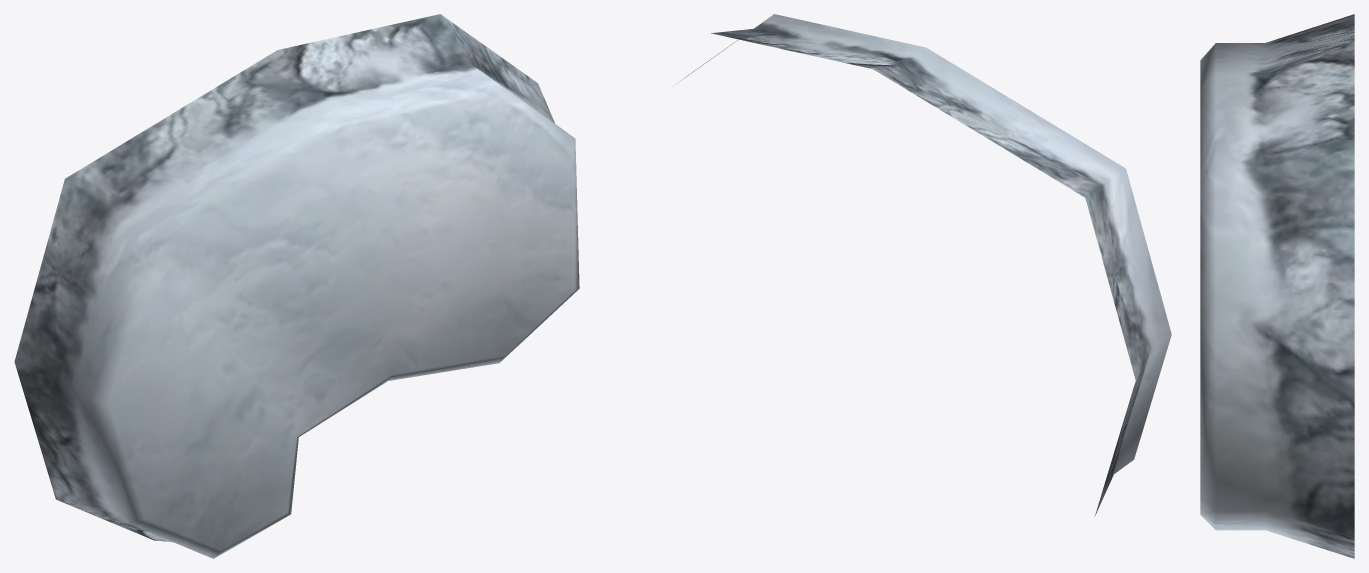
3 renders of one model, left to right at view 1: azimuth 30°, elevation 25°; view 2: azimuth 150°, elevation 25°; view 3: azimuth 270°, elevation 25°, orthographic. The views are drawn at different scales.
Parts seen in each view (by area): view 1: model_Object92; view 2: model_Object92; view 3: model_Object92.
Part boxes in pixels (x1,y1,x2,y2): model_Object92: (14,14,579,558); model_Object92: (672,14,1171,516); model_Object92: (1200,14,1354,558).
Bounding box in the file's own units: 2.65 × 2.21 × 0.5461.
Materials: 1 (1 with a texture image).
